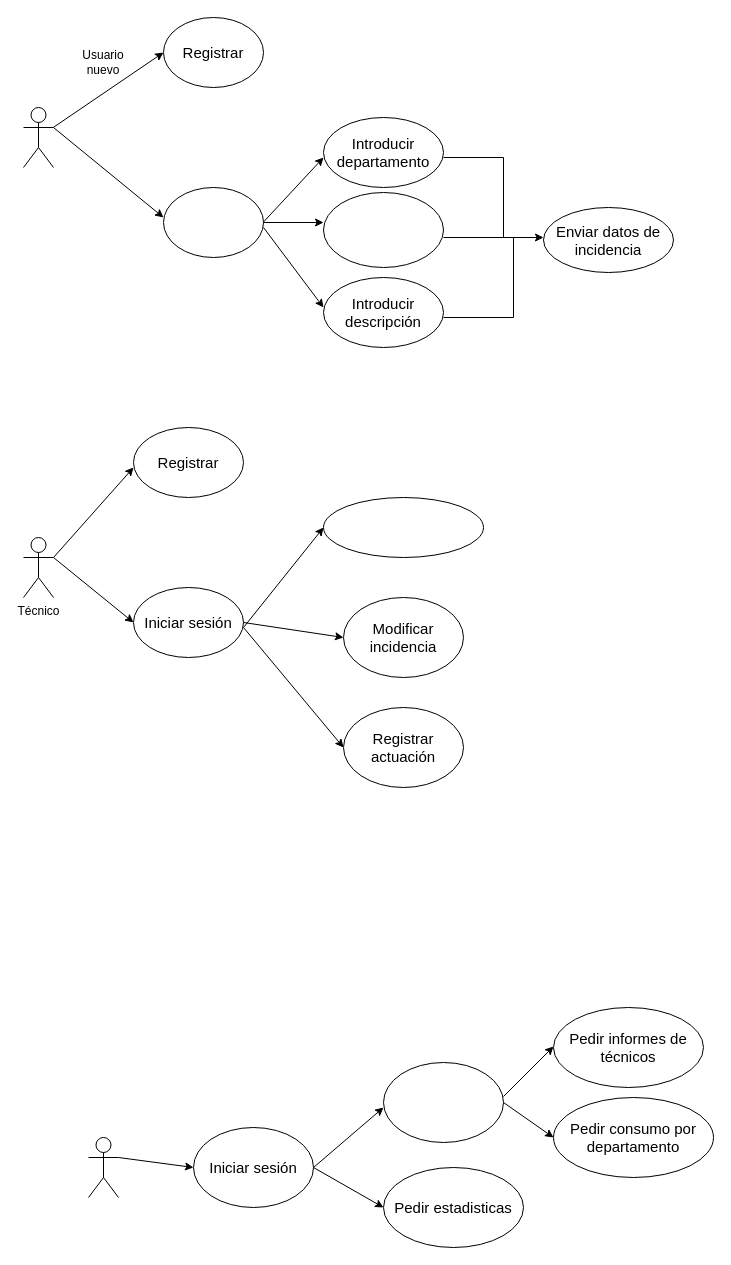
This 731x1265 diagram has some shape labels left out. The shapes that lost their labels are listed below. From the top down, each one's centre as x and y in pixels, then its label:
(x=38, y=137): User
(x=213, y=222): Iniciar sesion
(x=383, y=230): Introducir fecha
(x=403, y=527): Preguntar código de incidencia
(x=443, y=1102): Pedir informes
(x=103, y=1167): Administrador
